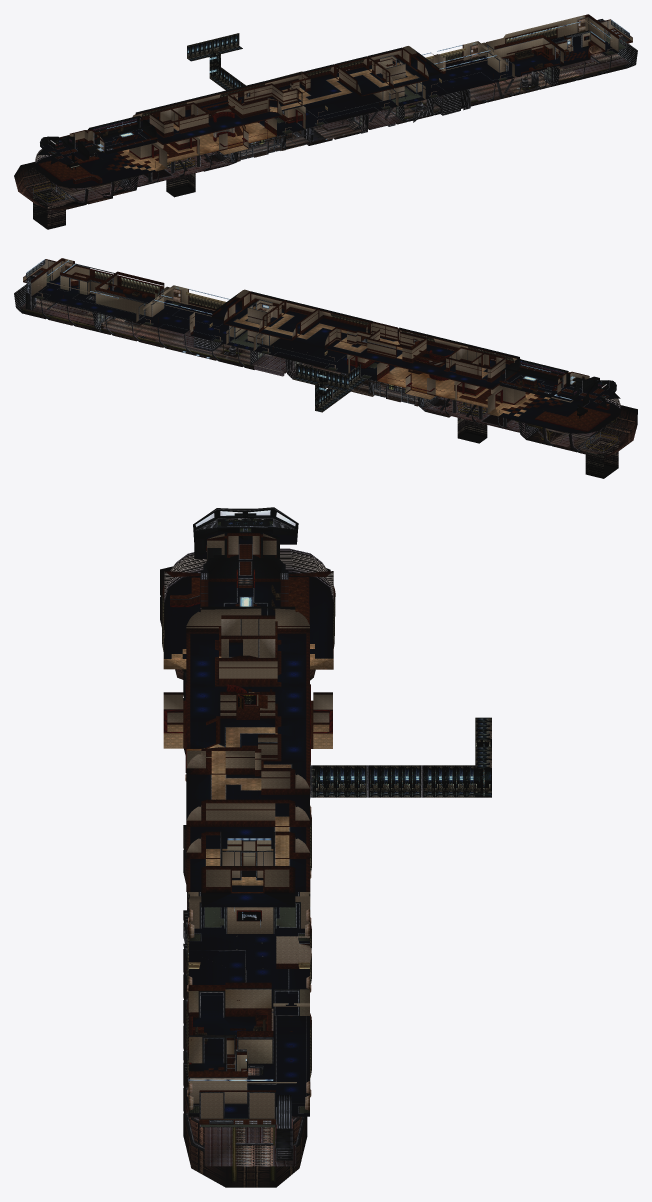
File: AirForceOneAntiterrorism.glb
The picture shows the model from 3 angles, top to bottom: view 1: azimuth 30°, elevation 25°; view 2: azimuth 150°, elevation 25°; view 3: azimuth 270°, elevation 25°; orthographic projection. The views are drawn at different scales.
Visible parts, largest first — view 1: AirForceOneAntiterrorism_9, AirForceOneAntiterrorism_2, AirForceOneAntiterrorism_3, AirForceOneAntiterrorism_4, AirForceOneAntiterrorism_56, AirForceOneAntiterrorism_58, AirForceOneAntiterrorism_38, AirForceOneAntiterrorism_Alpha_60, AirForceOneAntiterrorism_35, AirForceOneAntiterrorism_5, AirForceOneAntiterrorism_78, AirForceOneAntiterrorism_81 (+9 smaller); view 2: AirForceOneAntiterrorism_9, AirForceOneAntiterrorism_4, AirForceOneAntiterrorism_2, AirForceOneAntiterrorism_3, AirForceOneAntiterrorism_56, AirForceOneAntiterrorism_38, AirForceOneAntiterrorism_58, AirForceOneAntiterrorism_Alpha_60, AirForceOneAntiterrorism_35, AirForceOneAntiterrorism_5, AirForceOneAntiterrorism_78, AirForceOneAntiterrorism_81 (+9 smaller); view 3: AirForceOneAntiterrorism_9, AirForceOneAntiterrorism_2, AirForceOneAntiterrorism_4, AirForceOneAntiterrorism_3, AirForceOneAntiterrorism_35, AirForceOneAntiterrorism_38, AirForceOneAntiterrorism_56, AirForceOneAntiterrorism_81, AirForceOneAntiterrorism_14, AirForceOneAntiterrorism_58, AirForceOneAntiterrorism_33, AirForceOneAntiterrorism_Alpha_60 (+3 smaller).
Boxes of the visible parts, x1,y1,x2,y2 form: AirForceOneAntiterrorism_9: (35,30,618,188); AirForceOneAntiterrorism_2: (69,15,632,168); AirForceOneAntiterrorism_3: (31,17,637,229); AirForceOneAntiterrorism_4: (38,14,632,183); AirForceOneAntiterrorism_56: (14,54,626,210); AirForceOneAntiterrorism_58: (70,53,629,201); AirForceOneAntiterrorism_38: (120,62,418,171); AirForceOneAntiterrorism_Alpha_60: (32,53,621,205); AirForceOneAntiterrorism_35: (187,33,245,90); AirForceOneAntiterrorism_5: (38,35,592,184); AirForceOneAntiterrorism_78: (40,47,431,160); AirForceOneAntiterrorism_81: (38,49,439,162); AirForceOneAntiterrorism_9: (31,276,620,433); AirForceOneAntiterrorism_4: (23,258,610,431); AirForceOneAntiterrorism_2: (23,259,589,413); AirForceOneAntiterrorism_3: (14,260,619,478); AirForceOneAntiterrorism_56: (22,297,637,458); AirForceOneAntiterrorism_38: (234,306,550,416); AirForceOneAntiterrorism_58: (19,299,596,447); AirForceOneAntiterrorism_Alpha_60: (25,298,620,453); AirForceOneAntiterrorism_35: (292,363,366,412); AirForceOneAntiterrorism_5: (70,268,610,432); AirForceOneAntiterrorism_78: (221,291,616,403); AirForceOneAntiterrorism_81: (212,293,619,406); AirForceOneAntiterrorism_9: (164,530,333,1118); AirForceOneAntiterrorism_2: (163,533,332,1118); AirForceOneAntiterrorism_4: (162,533,335,1124); AirForceOneAntiterrorism_3: (160,507,309,1164); AirForceOneAntiterrorism_35: (312,717,491,797); AirForceOneAntiterrorism_38: (163,644,333,885); AirForceOneAntiterrorism_56: (160,566,330,1187); AirForceOneAntiterrorism_81: (193,508,298,876); AirForceOneAntiterrorism_14: (194,660,302,1113); AirForceOneAntiterrorism_58: (187,925,302,1166); AirForceOneAntiterrorism_33: (164,548,333,602); AirForceOneAntiterrorism_Alpha_60: (235,579,273,1166).
Size of the model in its own units: 1215 by 167 by 293.
Materials: 86 (86 with a texture image).
